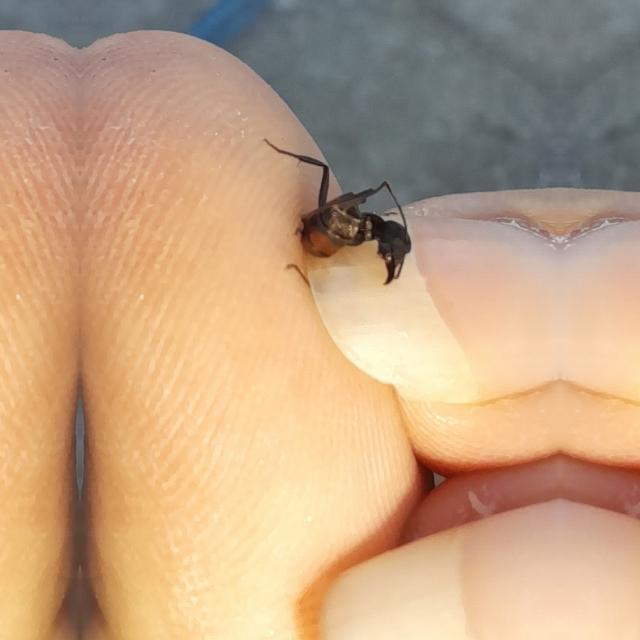Camponotus: (277, 148, 431, 308)
